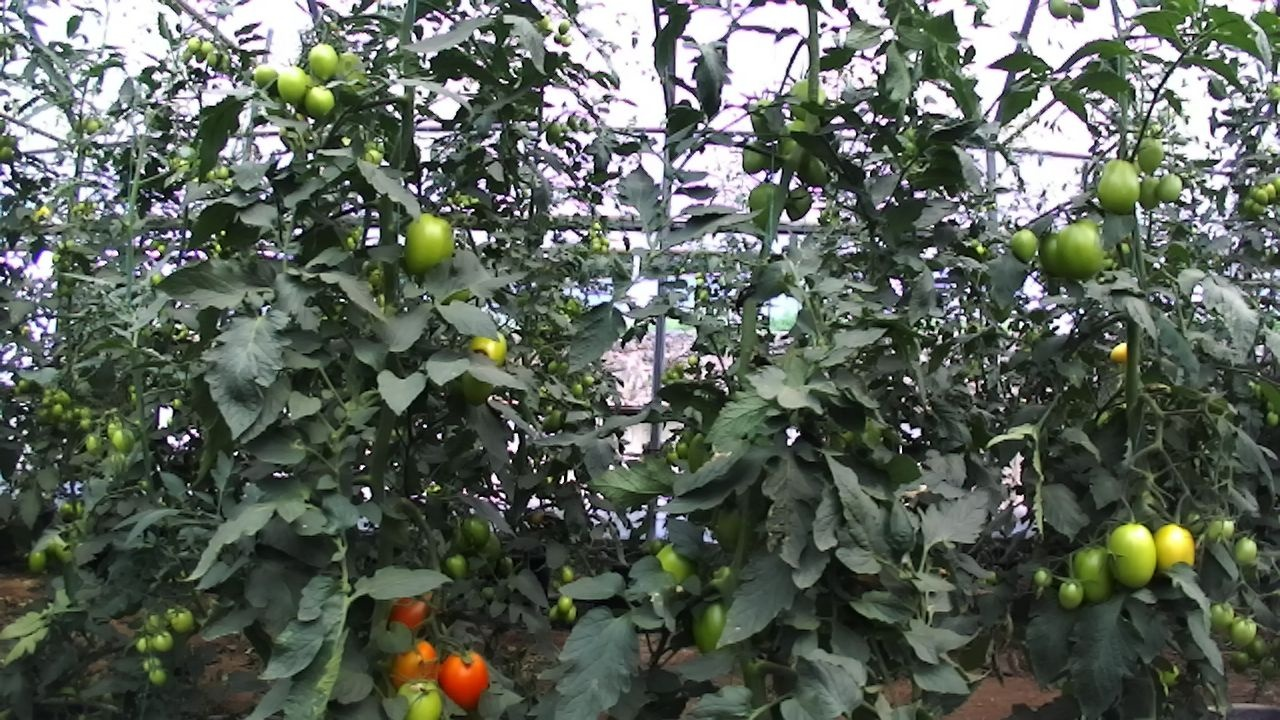tomato: (389, 199, 469, 288), (427, 640, 505, 718), (1102, 516, 1164, 601), (383, 630, 450, 703), (1149, 511, 1204, 599), (1065, 536, 1128, 608), (1051, 214, 1111, 289), (1090, 150, 1151, 219), (385, 667, 456, 720), (689, 595, 739, 664), (383, 584, 437, 647), (459, 315, 515, 374), (1028, 227, 1081, 283), (742, 175, 792, 234), (743, 93, 790, 145), (456, 362, 503, 411), (782, 75, 832, 121), (273, 57, 313, 112), (1003, 223, 1049, 270), (299, 79, 341, 127), (304, 38, 343, 87), (778, 178, 817, 226), (794, 150, 836, 194), (1132, 129, 1169, 178), (1225, 608, 1262, 654), (1132, 170, 1168, 216), (457, 510, 495, 552), (737, 135, 774, 176), (1150, 168, 1186, 210), (1054, 573, 1090, 613), (1204, 597, 1239, 638), (248, 58, 286, 95), (441, 547, 475, 586), (1203, 511, 1238, 548), (1228, 531, 1262, 569), (1037, 0, 1082, 28), (1027, 564, 1059, 597), (1102, 337, 1136, 368), (166, 604, 198, 636), (108, 426, 139, 458), (1243, 631, 1271, 664), (1227, 646, 1254, 677), (81, 430, 107, 460), (149, 627, 176, 654), (25, 548, 50, 577), (554, 560, 581, 586), (103, 417, 127, 443), (146, 665, 171, 689), (544, 118, 564, 148), (560, 602, 582, 629), (81, 116, 104, 140), (140, 653, 163, 676), (132, 633, 153, 658), (554, 591, 574, 617), (184, 32, 204, 58), (46, 397, 66, 422), (197, 35, 218, 58), (77, 413, 96, 438), (203, 48, 222, 73), (1259, 181, 1279, 202), (544, 600, 563, 622), (1252, 186, 1271, 207), (1248, 200, 1270, 218), (556, 15, 574, 37), (212, 162, 231, 182), (567, 379, 586, 398), (579, 370, 598, 389), (684, 351, 702, 369), (558, 31, 575, 48), (551, 31, 565, 46)
